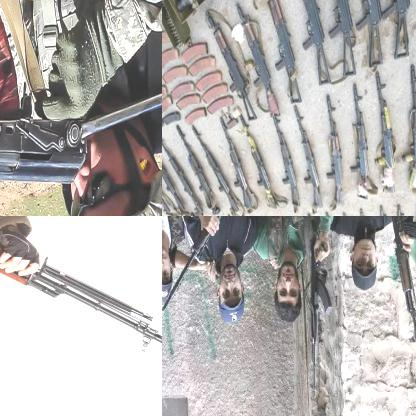rifle: (0, 0, 161, 195), (0, 216, 161, 355), (162, 216, 276, 314), (204, 9, 257, 120), (234, 5, 280, 116), (261, 0, 302, 104), (191, 123, 238, 212), (304, 239, 329, 402), (385, 216, 415, 347), (238, 112, 278, 209), (218, 116, 256, 212), (290, 0, 332, 86), (173, 126, 215, 210), (162, 127, 202, 215), (291, 105, 324, 207), (373, 71, 398, 192), (271, 115, 302, 208), (323, 95, 348, 205), (323, 0, 357, 80), (348, 83, 368, 194), (379, 0, 413, 59), (356, 0, 384, 70), (162, 129, 185, 211), (400, 63, 415, 188)
